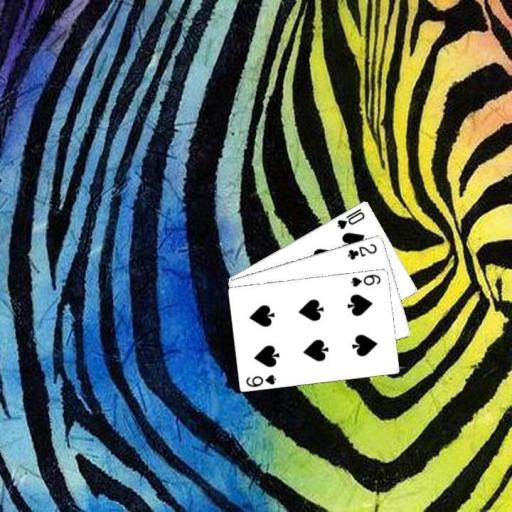card-corner: (334, 205, 366, 230), (344, 240, 378, 261), (348, 271, 382, 288), (244, 371, 278, 388)
